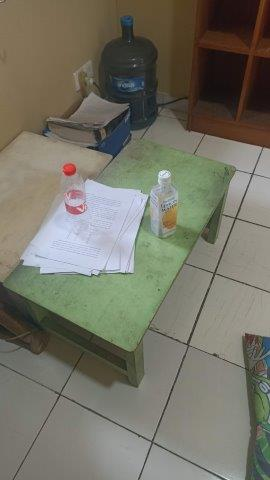botolplastik: (61, 163, 91, 233), (150, 172, 180, 237)
kertas: (24, 178, 148, 277)
